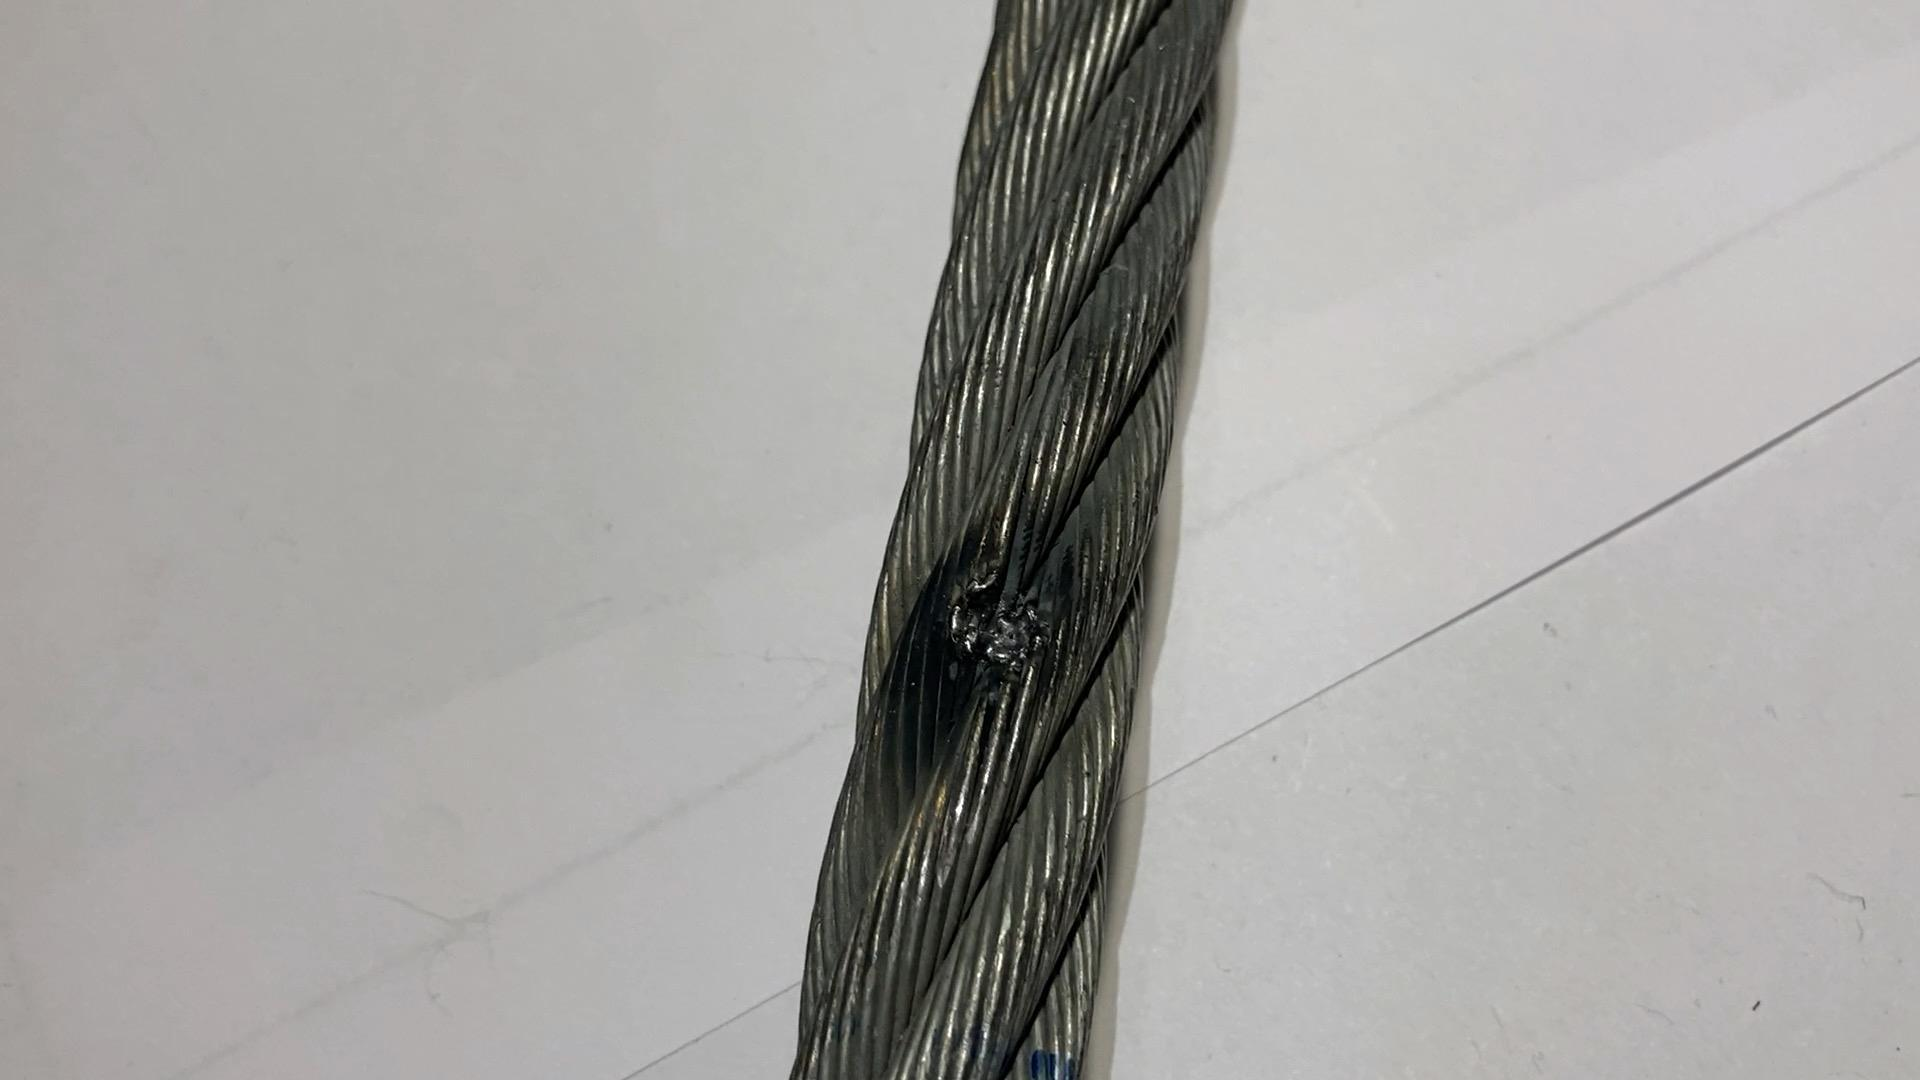thunderbolt: (935, 547, 1062, 674)
